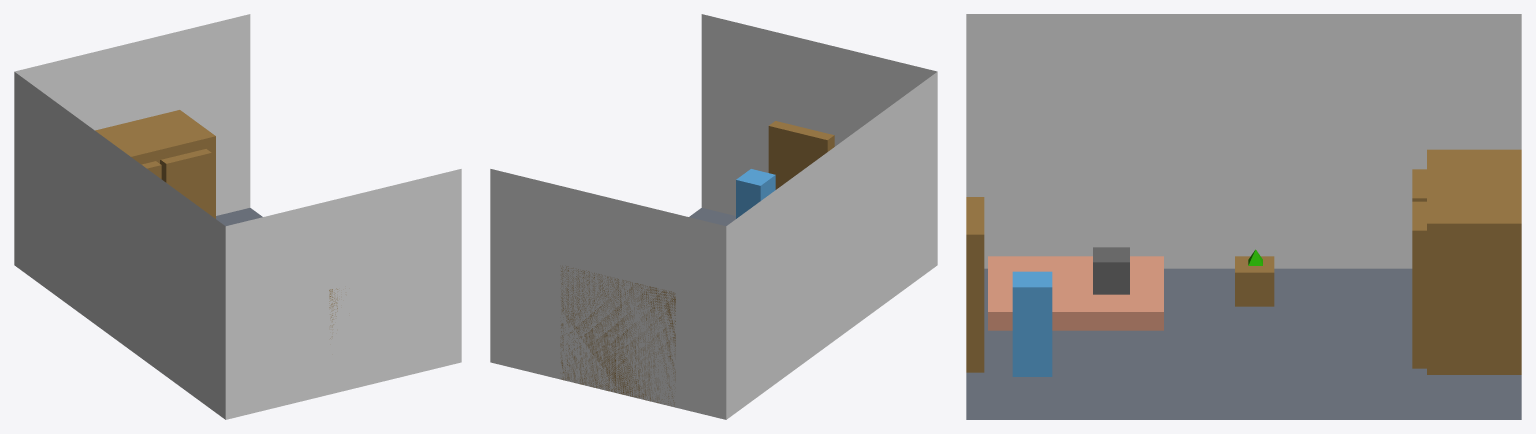
3 renders of one model, left to right at view 1: azimuth 30°, elevation 25°; view 2: azimuth 150°, elevation 25°; view 3: azimuth 270°, elevation 25°, orthographic. The views are drawn at different scales.
Visible parts, largest first — view 1: cuarto, closet, closet_puerta; view 2: cuarto, closet, puerta.001, ninio; view 3: cuarto, closet, cama, ninio, puerta.001, closet_puerta, cajon, gato.
Boxes of the visible parts, box(x1,y1,x2,y2) form: cuarto: box(14, 14, 461, 419); closet: box(95, 110, 215, 218); closet_puerta: box(160, 149, 211, 215); cuarto: box(490, 14, 937, 419); closet: box(560, 266, 675, 406); puerta.001: box(768, 121, 834, 189); ninio: box(736, 169, 775, 218); cuarto: box(966, 14, 1521, 419); closet: box(1427, 149, 1521, 374); cama: box(988, 256, 1163, 330); ninio: box(1012, 271, 1052, 376); puerta.001: box(966, 197, 984, 372); closet_puerta: box(1412, 201, 1426, 368); cajon: box(1235, 256, 1274, 306); gato: box(1093, 247, 1129, 294).
Size of the model in its own units: 471 by 369 by 731.
